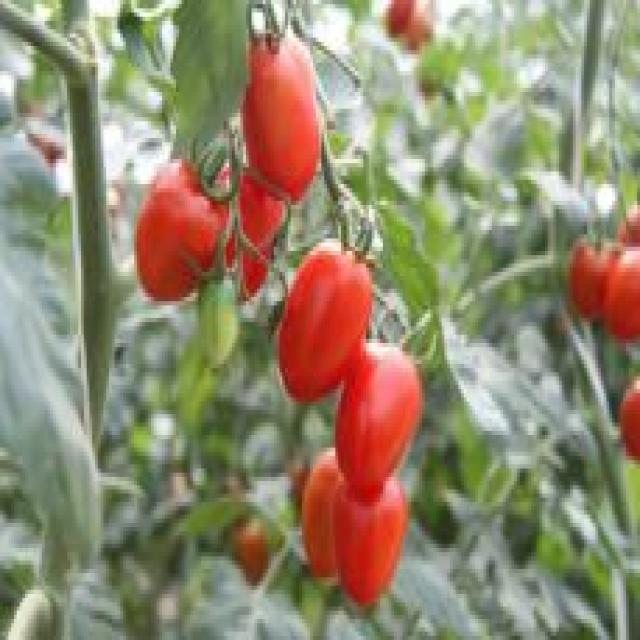level 2: (172, 254, 248, 376)
level 5: (230, 500, 270, 602)
level 6: (129, 137, 254, 332), (269, 228, 382, 426), (231, 8, 328, 210), (332, 310, 416, 496), (215, 125, 293, 316), (280, 424, 355, 583), (341, 466, 407, 618), (550, 215, 618, 337), (600, 238, 638, 350), (596, 171, 640, 255), (615, 372, 640, 508)
